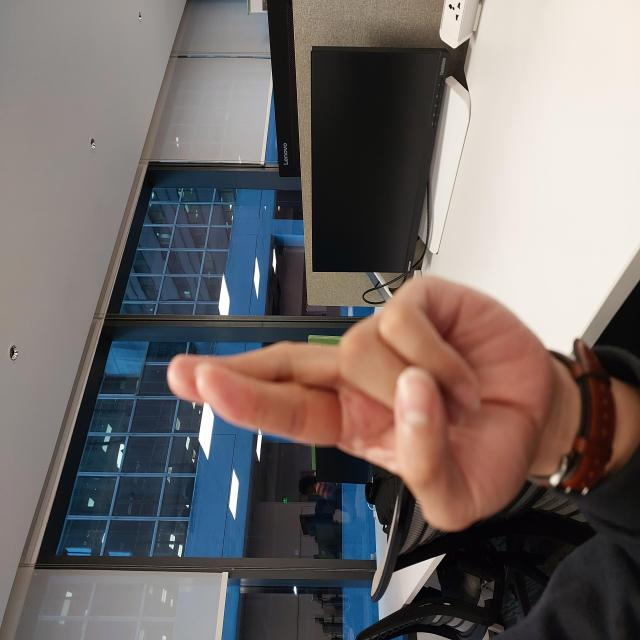R: (108, 167, 365, 554)
